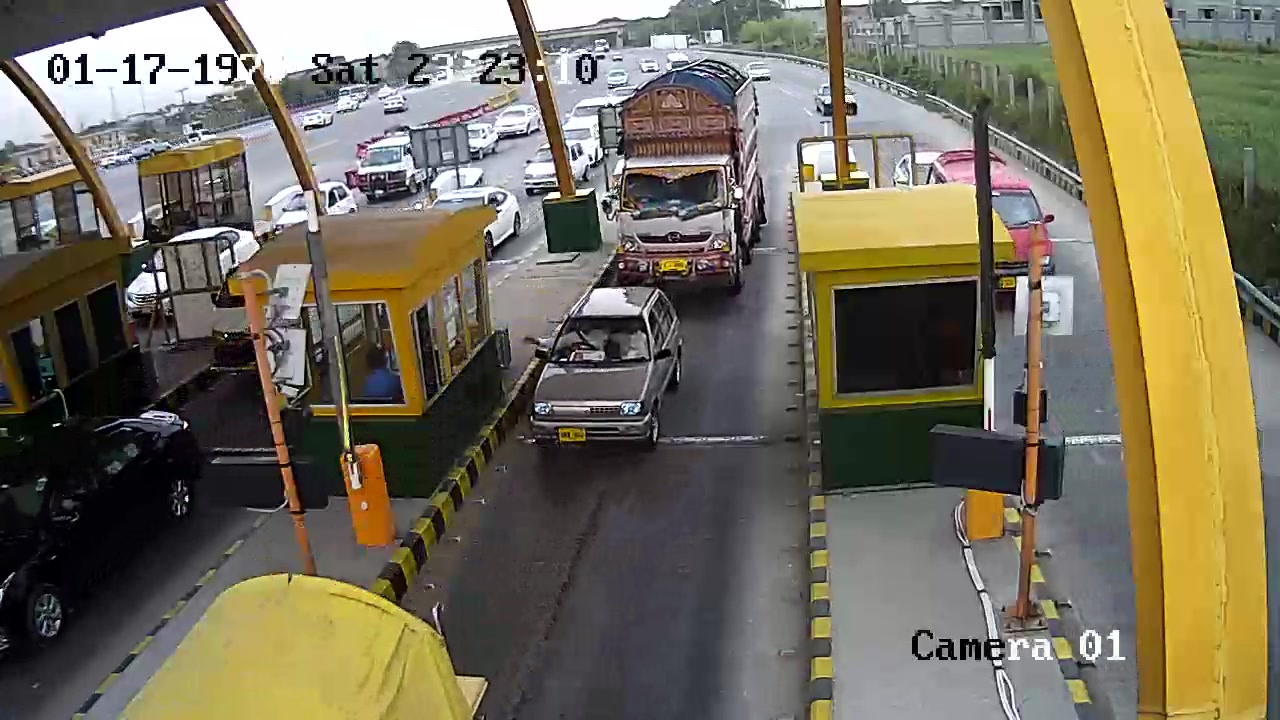F1: (523, 286, 686, 456)
F5: (618, 60, 775, 285)
